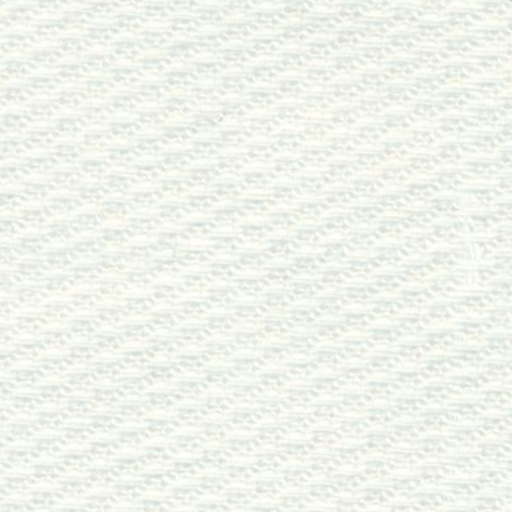TuoSha: (442, 11, 500, 502)
